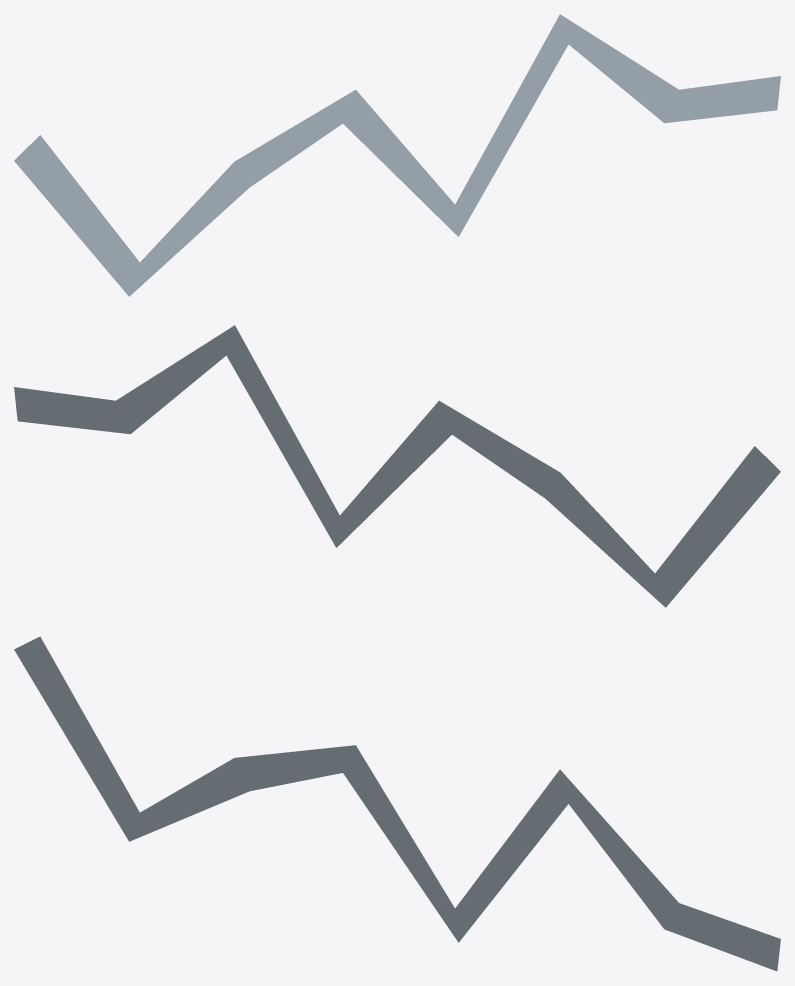
Rendered from 2045_PotionThrow_Overall_GroundArc77.fbx.
3 views of the same model, one above another, from view 1: azimuth 30°, elevation 25°; view 2: azimuth 150°, elevation 25°; view 3: azimuth 330°, elevation 25° (orthographic).
Parts seen in each view (by area): view 1: PART_GroundArc77; view 2: PART_GroundArc77; view 3: PART_GroundArc77.
Boxes of the visible parts, left/top/right/bottom form: PART_GroundArc77: left=14, top=14, right=780, bottom=296; PART_GroundArc77: left=14, top=325, right=780, bottom=607; PART_GroundArc77: left=14, top=636, right=780, bottom=971.
Bounding box in the file's own units: 71.39 × 18.19 × 2.96e-06.
